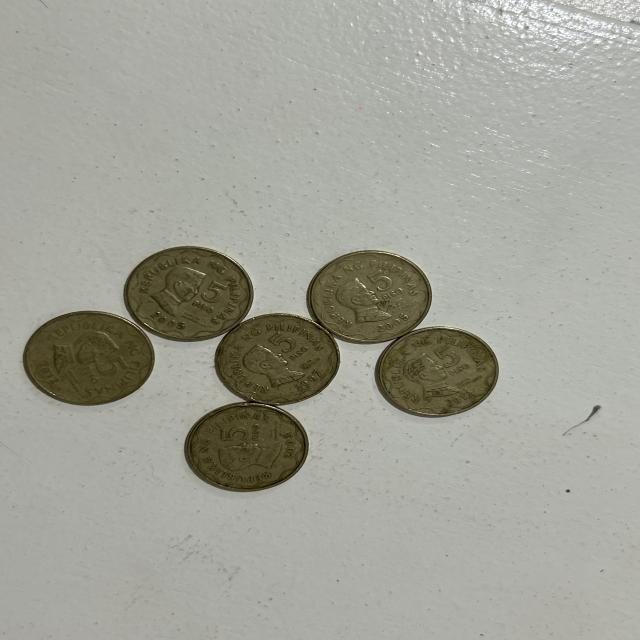5_Old_Front: (420, 340, 472, 382), (263, 328, 314, 369), (79, 353, 133, 390), (363, 266, 406, 310), (188, 276, 225, 318), (212, 420, 270, 446)
